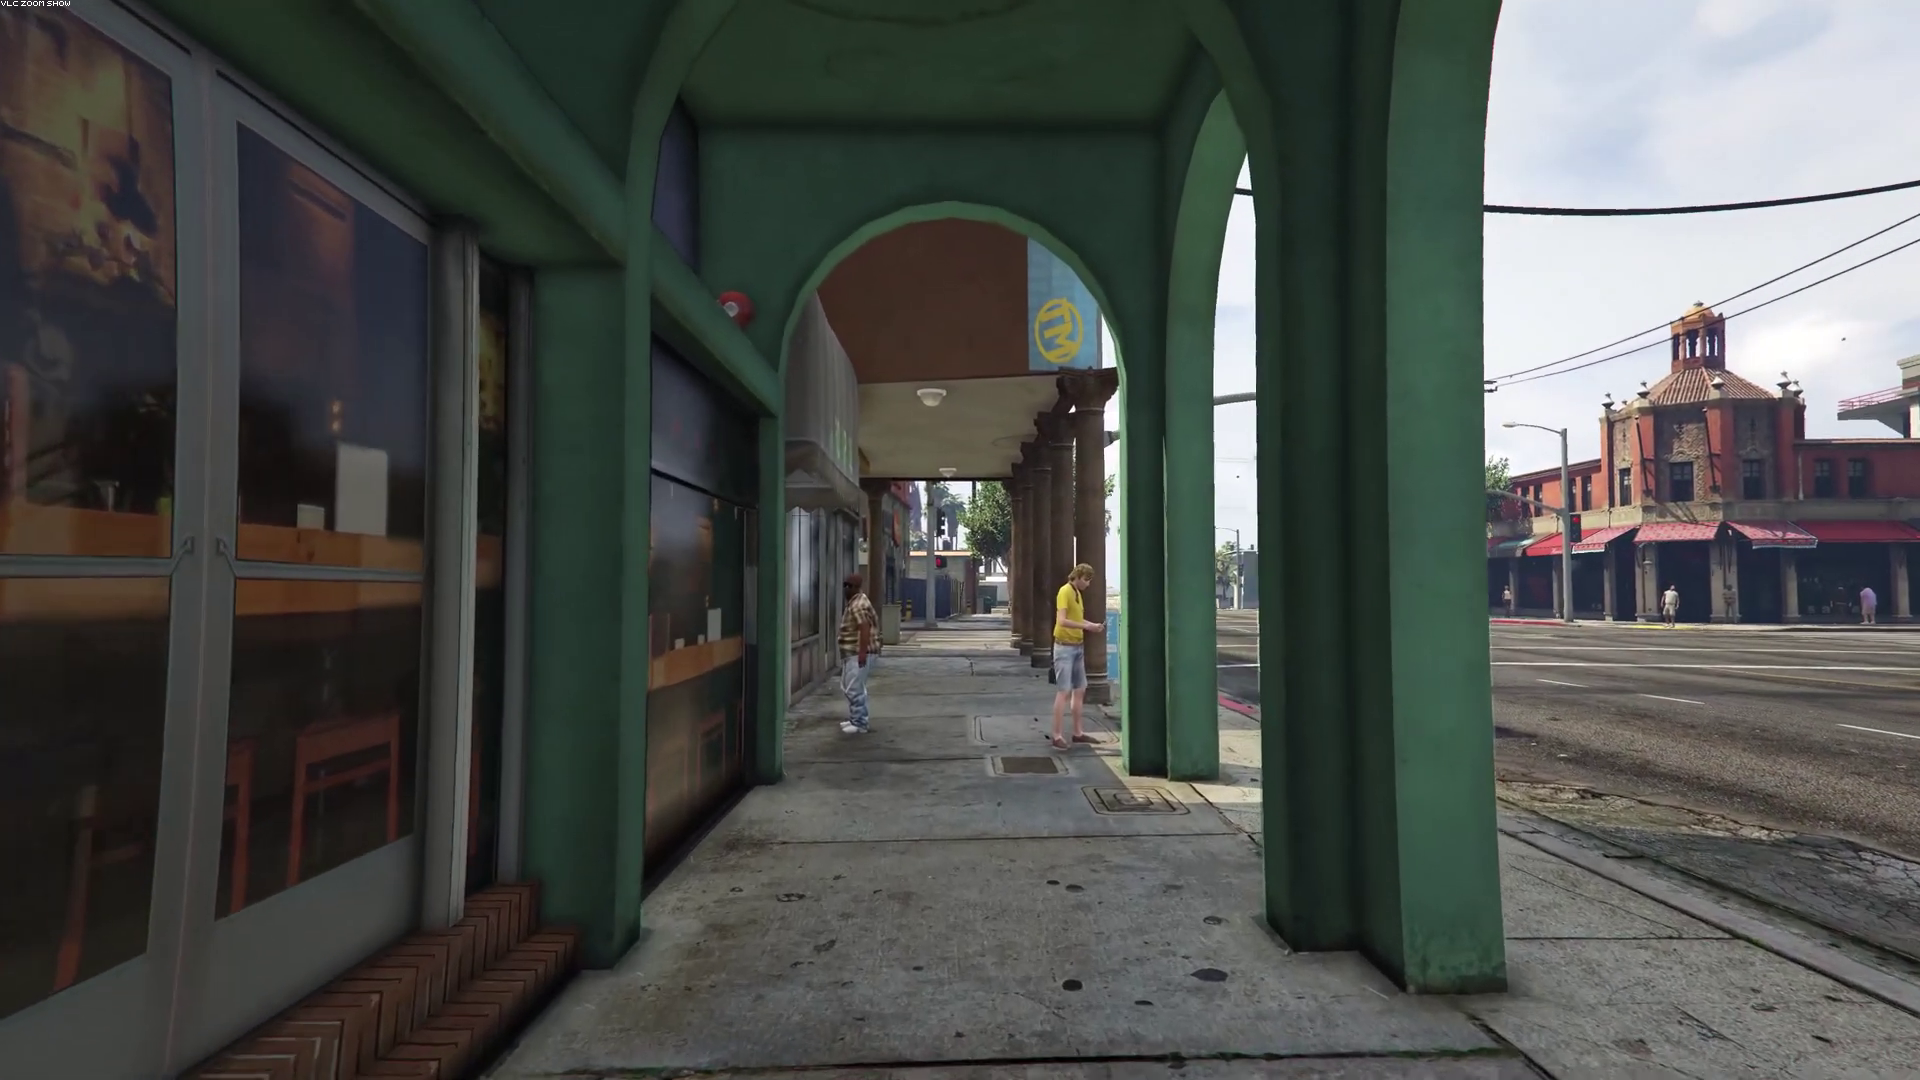person: (1052, 562, 1104, 750), (838, 576, 874, 733), (1829, 584, 1851, 625), (1661, 584, 1680, 627), (1860, 586, 1876, 627), (1724, 584, 1737, 624), (1501, 585, 1513, 619)
traffic light: (1567, 514, 1581, 542), (934, 509, 943, 535), (934, 552, 946, 569)
